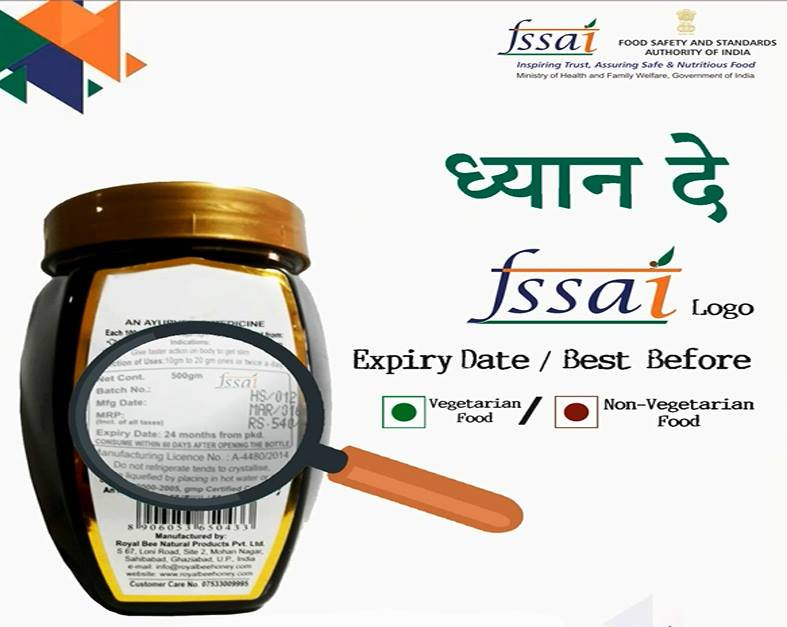nonveg_red: (553, 393, 601, 431)
